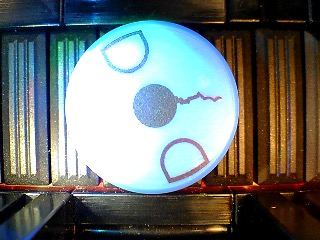CRACK: (64, 19, 240, 195)
